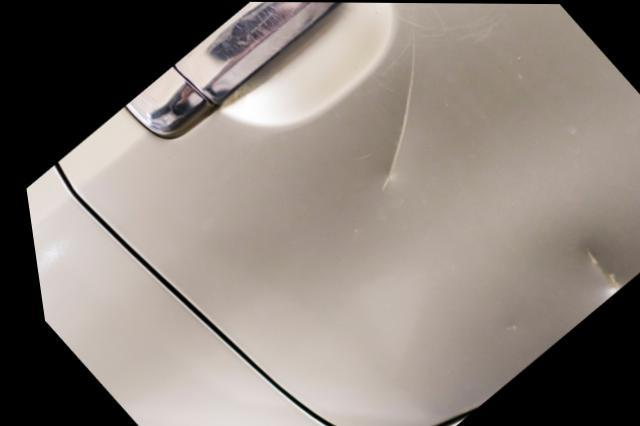dent: (525, 221, 640, 317), (365, 57, 421, 197)
